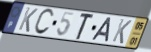5: (55, 11, 76, 39)
A: (90, 17, 113, 44)
C: (32, 8, 55, 37)
K: (111, 18, 133, 46), (17, 7, 39, 34)
T: (74, 13, 96, 41)
